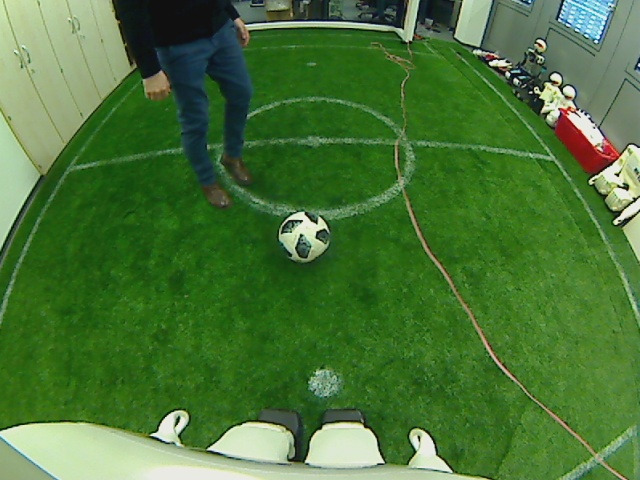ball: (276, 211, 333, 263)
